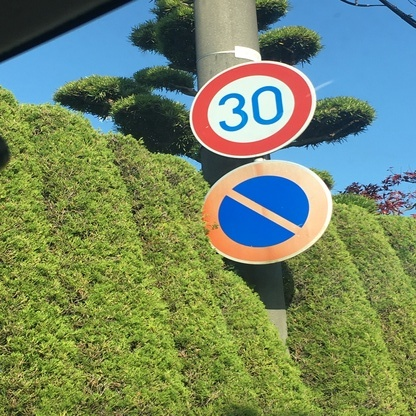Prohibition_sign: (187, 166, 341, 277)
Speed_sign: (187, 52, 314, 171)
